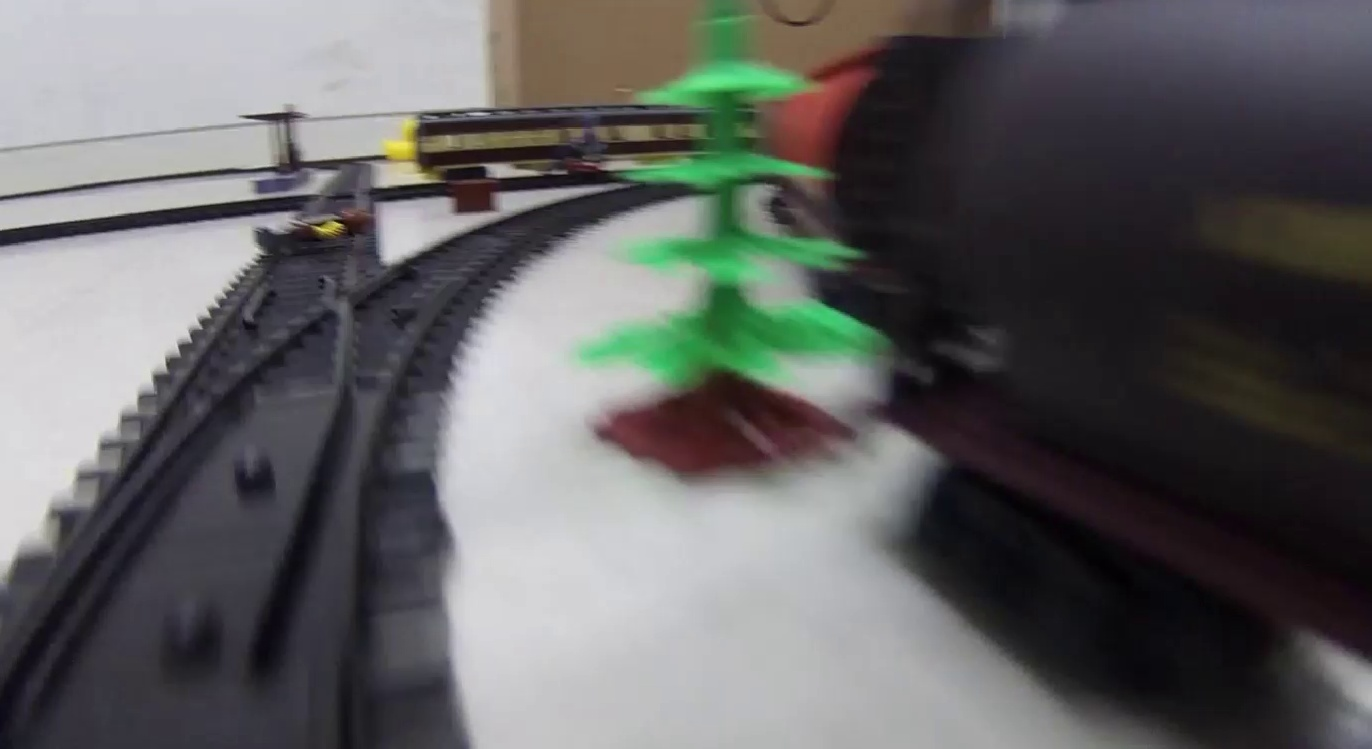tree: (588, 1, 868, 479)
